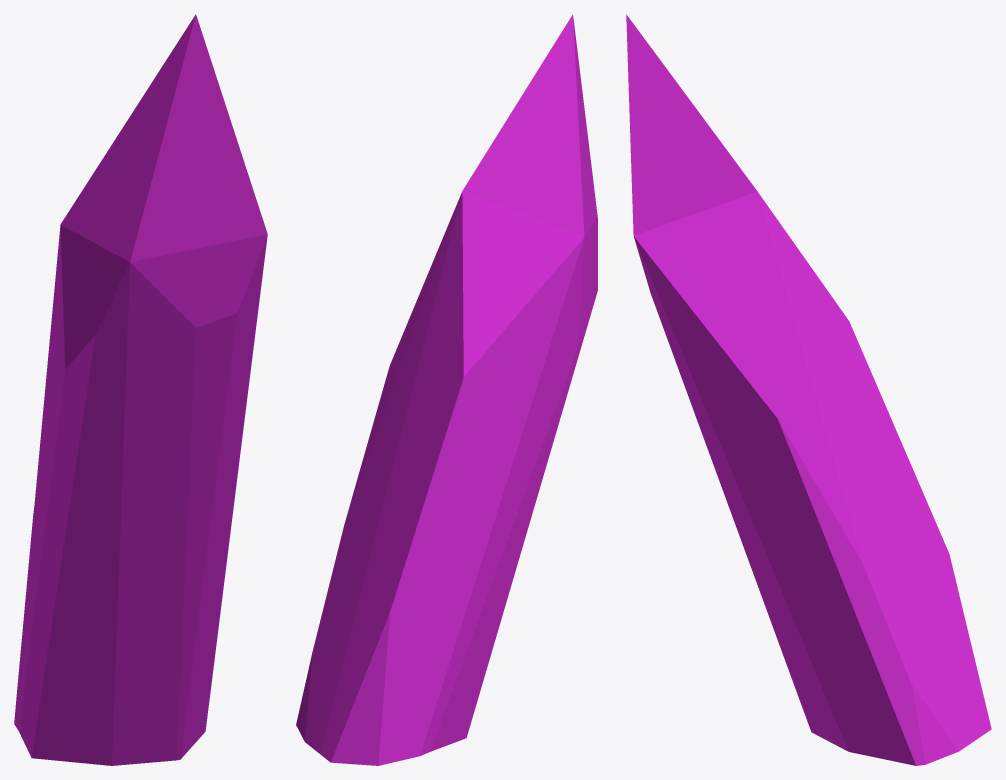
Rendered from Boss Crystal10.fbx.
The picture shows the model from 3 angles, left to right: view 1: azimuth 30°, elevation 25°; view 2: azimuth 150°, elevation 25°; view 3: azimuth 270°, elevation 25°; orthographic projection. The views are drawn at different scales.
Parts seen in each view (by area): view 1: boss crystal.010; view 2: boss crystal.010; view 3: boss crystal.010.
Part boxes in pixels (box(x1,y1,x2,y2)): boss crystal.010: box(14, 14, 267, 765); boss crystal.010: box(296, 14, 597, 765); boss crystal.010: box(626, 14, 991, 765).
Bounding box in the file's own units: 0.7187 × 2.26 × 1.1.
